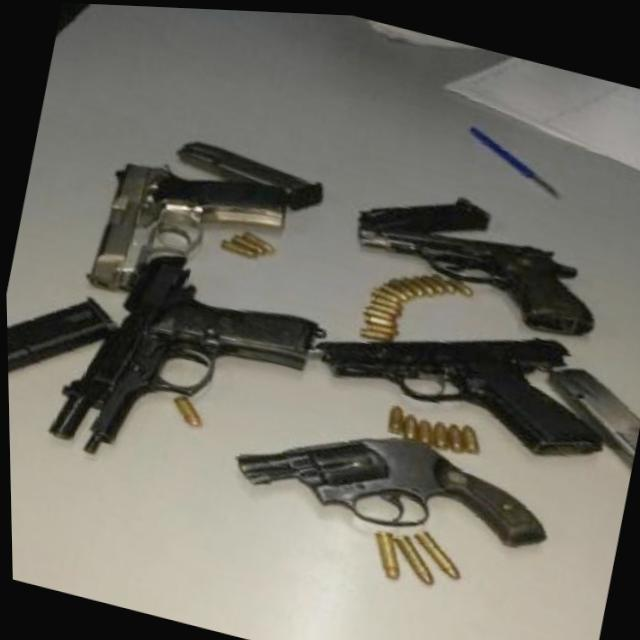gun: (36, 245, 332, 502), (290, 274, 616, 460), (222, 394, 554, 564), (75, 134, 293, 333), (344, 197, 610, 339)
